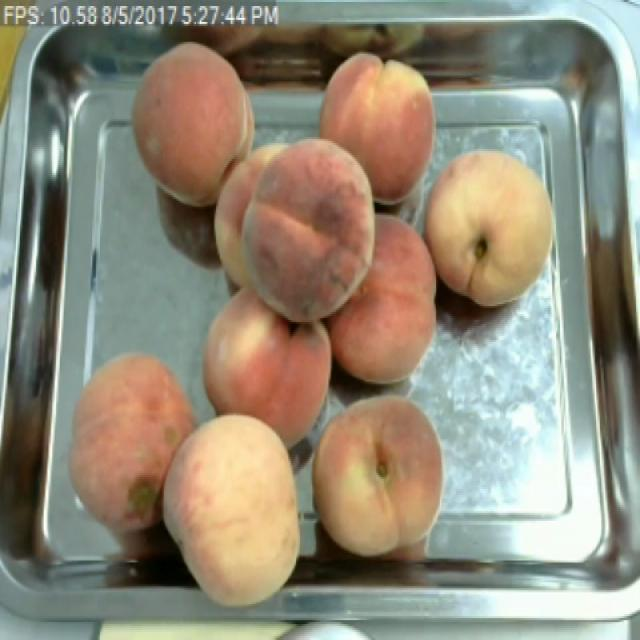Fruit: (208, 123, 391, 336), (150, 402, 314, 616), (52, 340, 212, 544), (412, 139, 565, 316), (300, 388, 455, 562), (194, 282, 346, 451), (122, 32, 262, 215), (312, 36, 447, 212), (327, 200, 448, 394)
